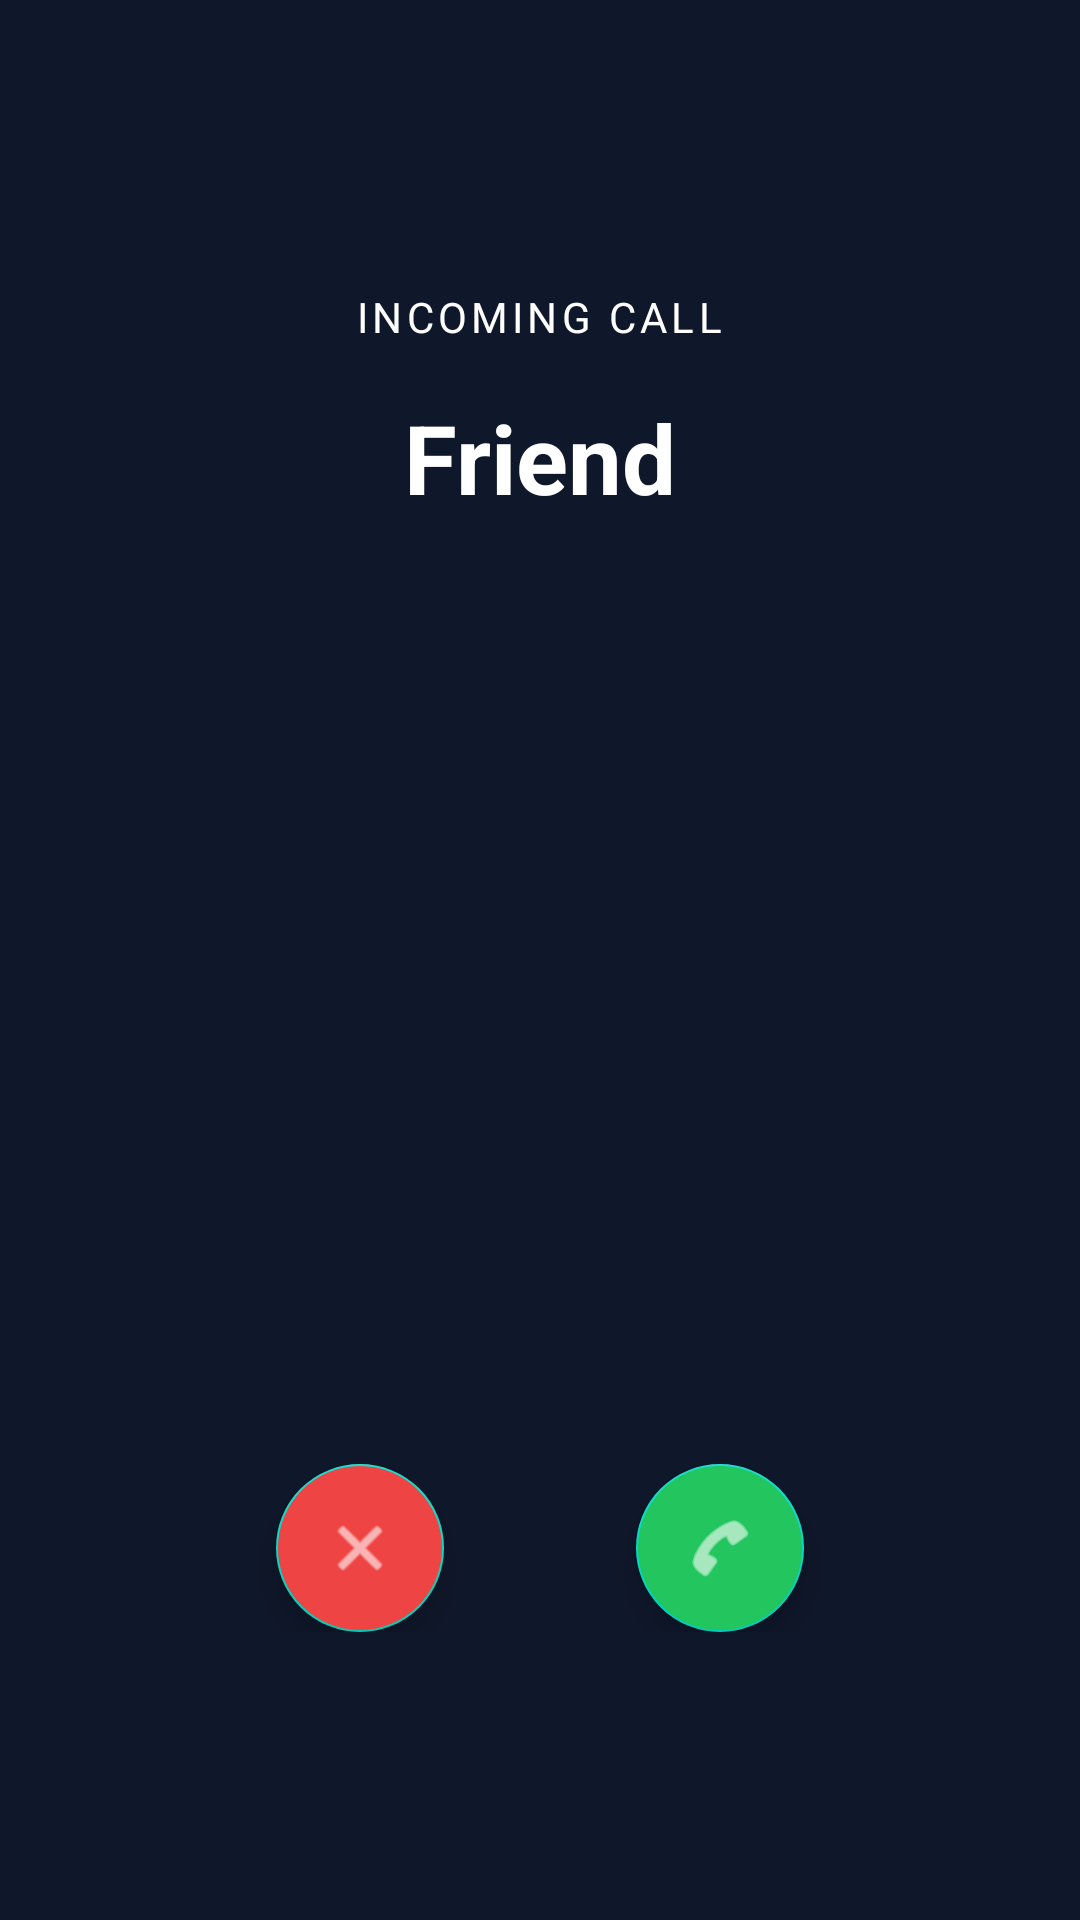

Icon bounding boxes for this 1080 × 1920 phone screenshot, format bbox=[x1, y1, x2, y2]:
call: bbox=[636, 1464, 804, 1632]
close clear cancel: bbox=[276, 1464, 444, 1632]
